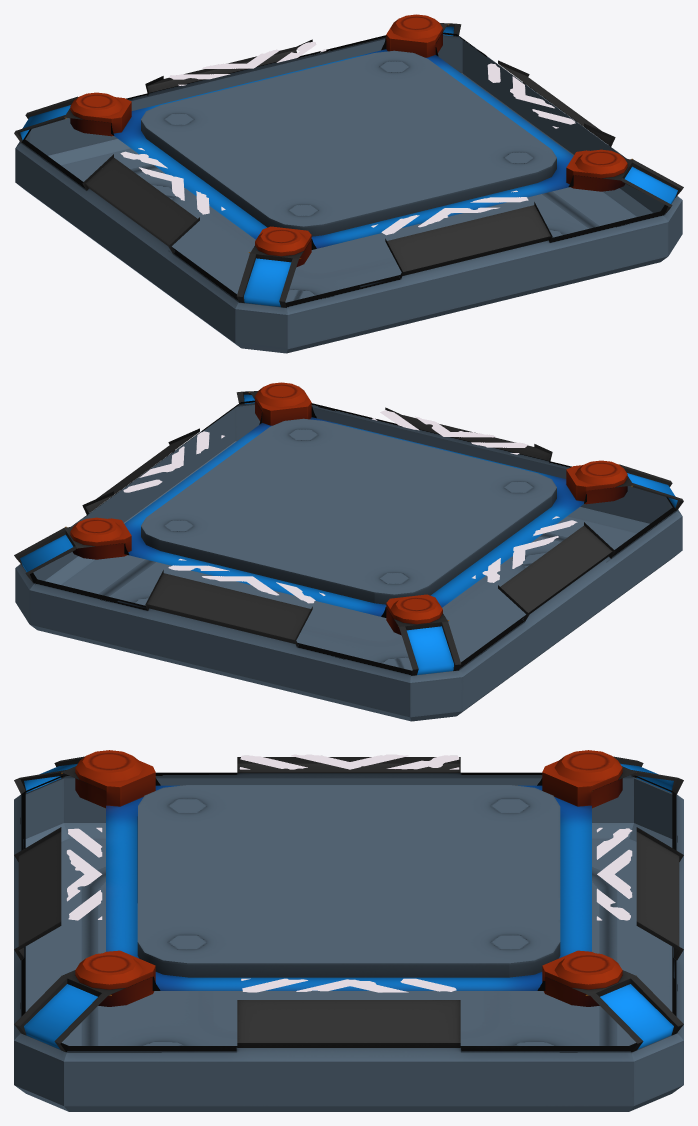
The model's file is furnace_basic_01.fbx.
3 views of the same model, one above another, from view 1: azimuth 30°, elevation 25°; view 2: azimuth 150°, elevation 25°; view 3: azimuth 270°, elevation 25° (orthographic). The views are drawn at different scales.
Visible parts, largest first — view 1: obj_factory_furnace_01_lp; view 2: obj_factory_furnace_01_lp; view 3: obj_factory_furnace_01_lp.
Boxes of the visible parts, bbox=[...] form: obj_factory_furnace_01_lp: bbox=[14, 14, 683, 353]; obj_factory_furnace_01_lp: bbox=[14, 382, 683, 721]; obj_factory_furnace_01_lp: bbox=[14, 750, 683, 1111].
Bounding box in the file's own units: 6 × 1.11 × 6.
